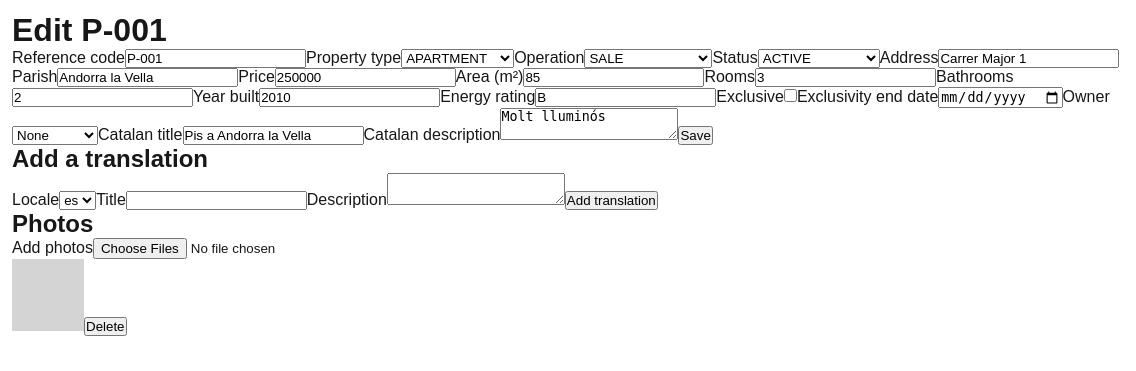
Edit listing page › renders an Owner select populated from fetched contacts and submits the chosen id
Expected: the field labelled "Reference code" holds "P-001", 125,49 -> 306,68
Select "Jordi Vila" in the dropdown labelled "Owner". click: point(55, 136)
box: 12,126 -> 98,145
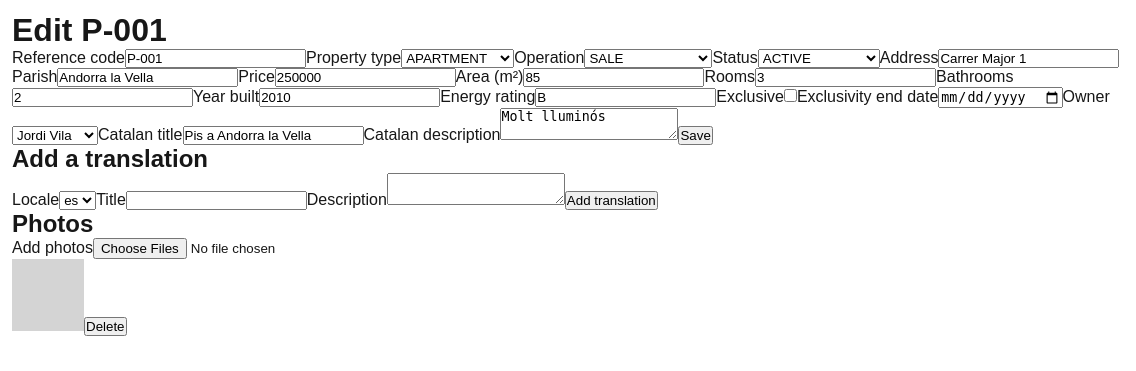
Click the button "Save". click: point(696, 136)
box: 678,126 -> 713,145
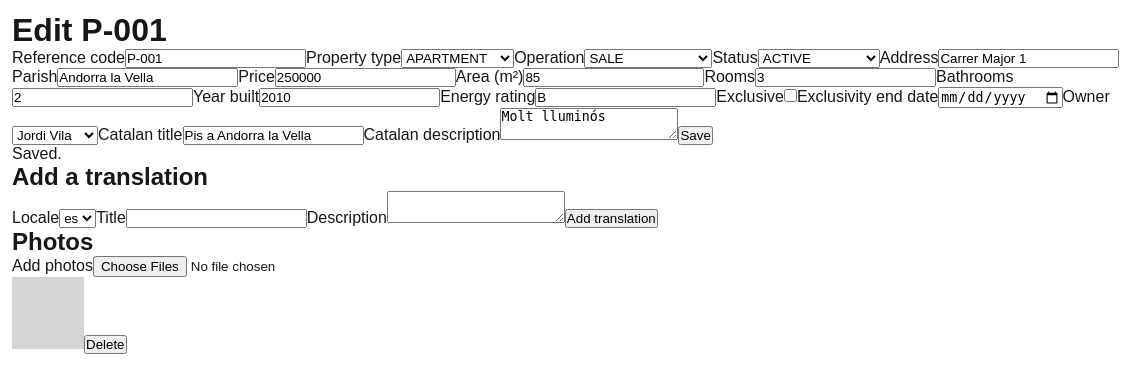
Expected: the text "Saved." is shown, 12,145 -> 62,162
